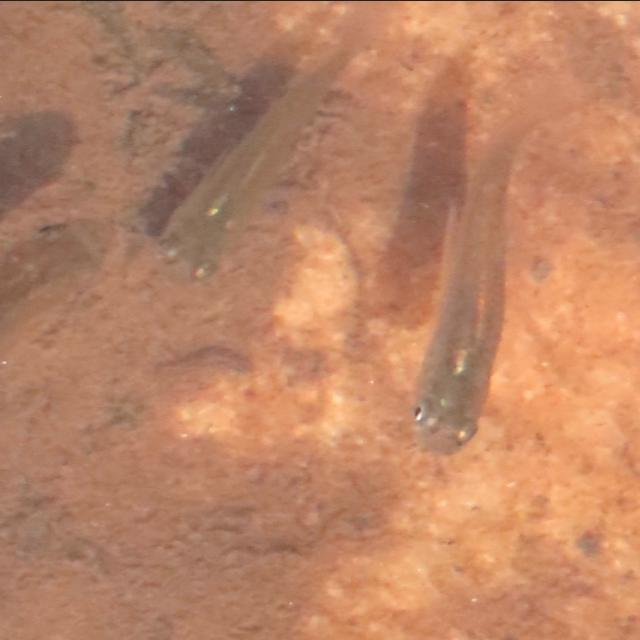Sivrisinek Baligi: (149, 13, 381, 293), (410, 92, 560, 460)
